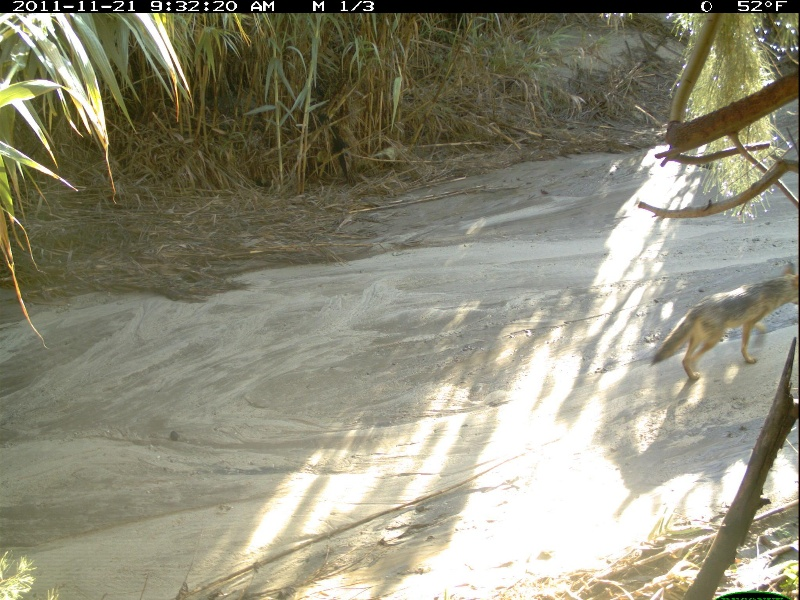coyote: (652, 265, 800, 381)
